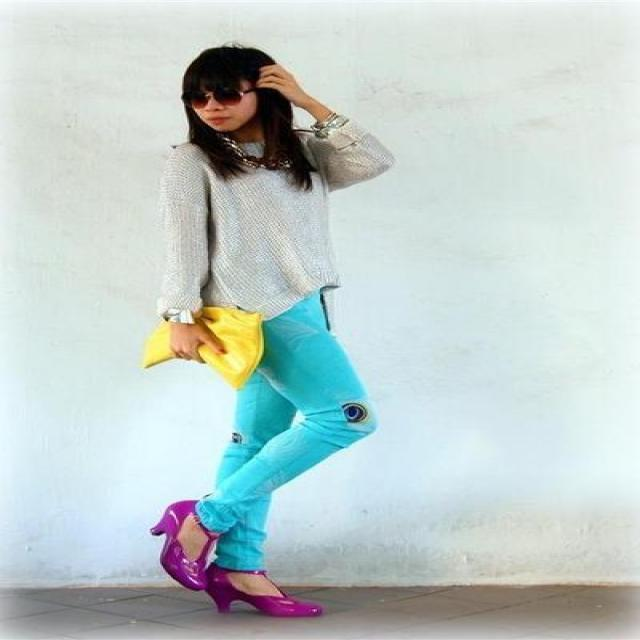bag: (144, 306, 262, 389)
jacket: (144, 129, 402, 325)
pants: (196, 298, 367, 570)
shoe: (150, 500, 317, 620)
sunglass: (182, 74, 276, 114)
